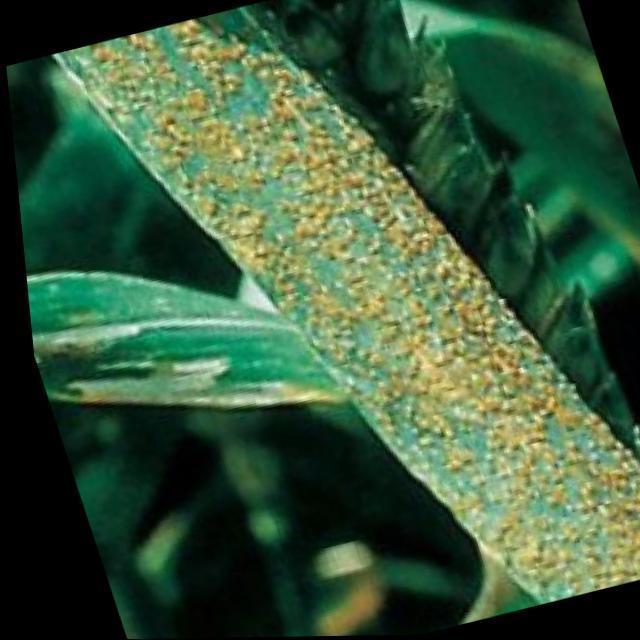Yellow_Rust: (47, 9, 639, 603)
